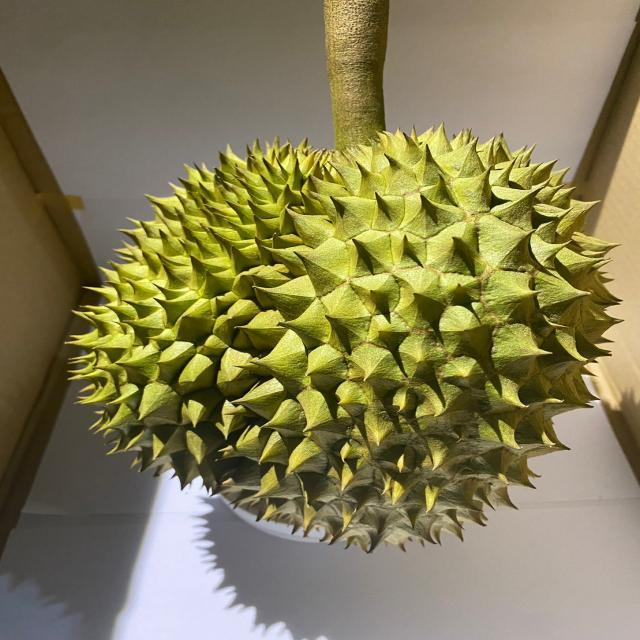immature: (66, 124, 630, 560)
